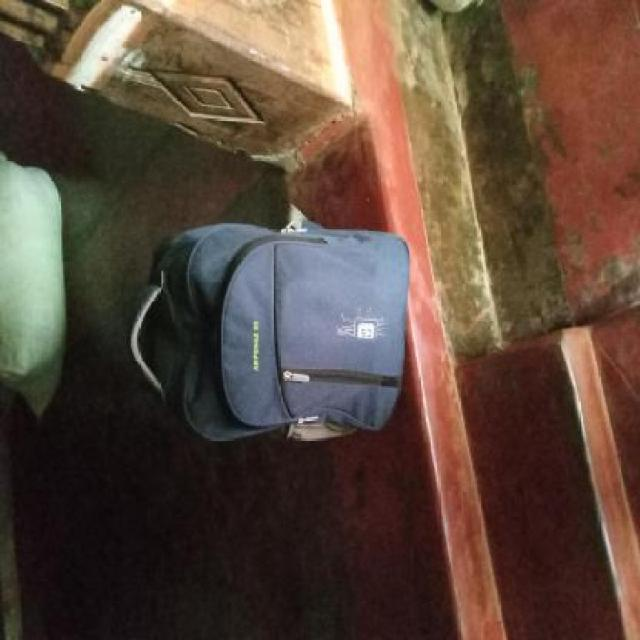backpack: (123, 202, 415, 449)
